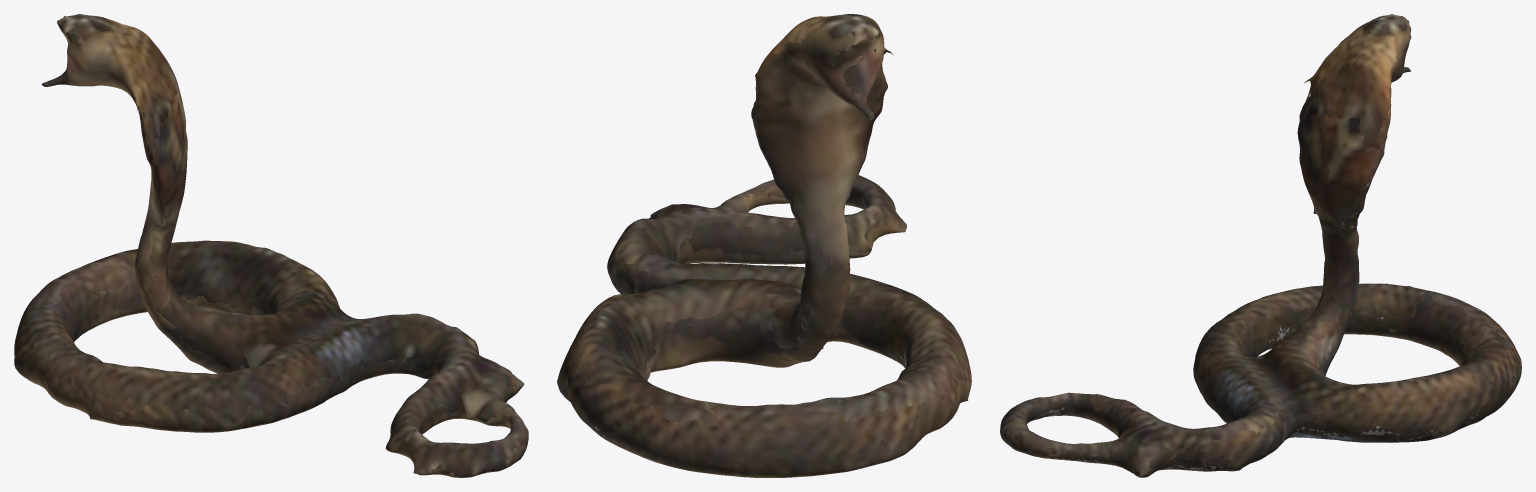
The model's file is snake.glb.
3 views of the same model, side by side, from view 1: azimuth 30°, elevation 25°; view 2: azimuth 150°, elevation 25°; view 3: azimuth 270°, elevation 25° (orthographic). The views are drawn at different scales.
Visible parts, largest first — view 1: Object_3; view 2: Object_3; view 3: Object_3.
Part boxes in pixels (x1,y1,x2,y2): Object_3: (14, 14, 528, 477); Object_3: (557, 14, 971, 477); Object_3: (1000, 14, 1521, 477).
Bounding box in the file's own units: 1050 × 972 × 1397.
1 material, 1 textured.
